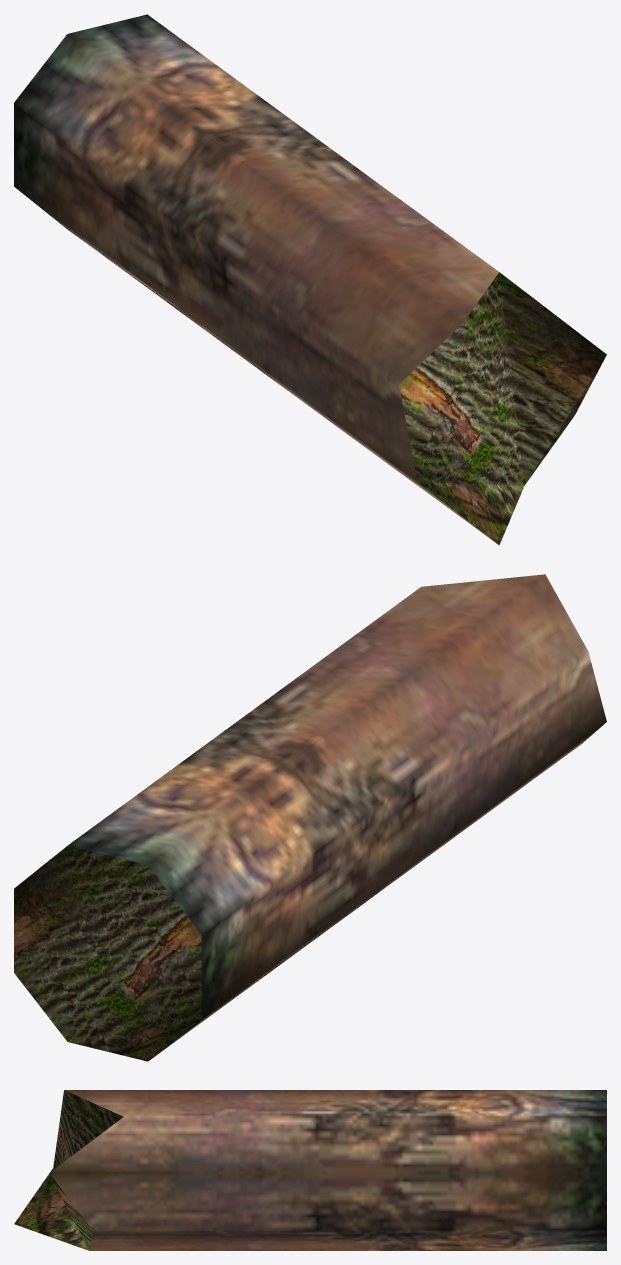
Rendered from S_RFCyl3.glb.
3 renders of one model, top to bottom at view 1: azimuth 30°, elevation 25°; view 2: azimuth 150°, elevation 25°; view 3: azimuth 270°, elevation 25°, orthographic. The views are drawn at different scales.
Visible parts, largest first — view 1: S_RFCyl3-col; view 2: S_RFCyl3-col; view 3: S_RFCyl3-col.
Boxes of the visible parts, x1,y1,x2,y2 form: S_RFCyl3-col: [14, 14, 606, 545]; S_RFCyl3-col: [14, 574, 606, 1061]; S_RFCyl3-col: [14, 1090, 606, 1250].
Bounding box in the file's own units: 0.495 × 0.4951 × 1.98.
Materials: 2 (2 with a texture image).
